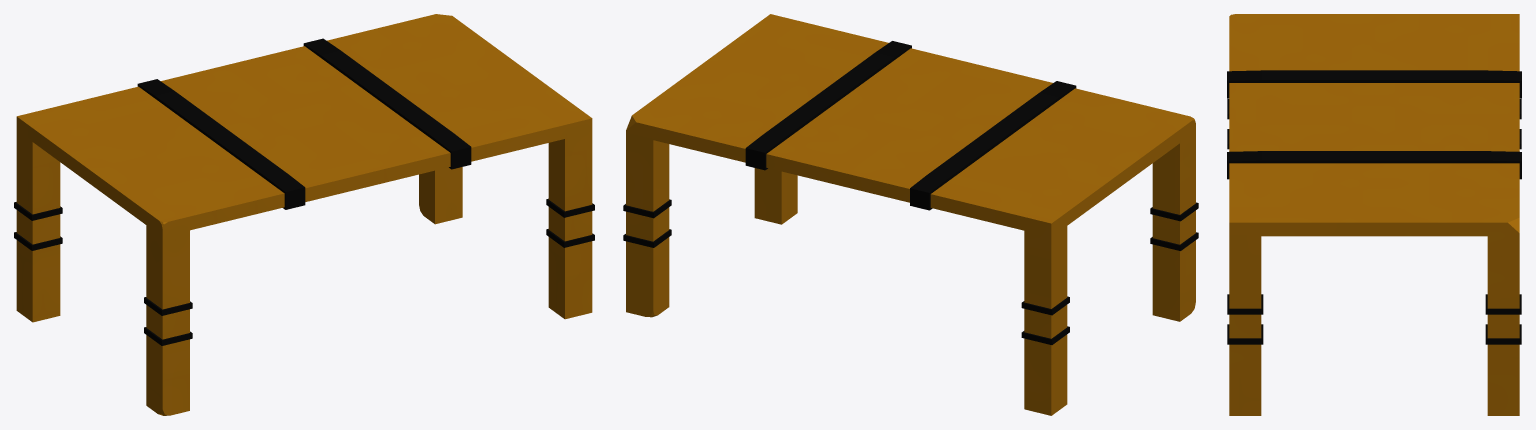
Rendered from Table_1.fbx.
The picture shows the model from 3 angles, left to right: view 1: azimuth 30°, elevation 25°; view 2: azimuth 150°, elevation 25°; view 3: azimuth 270°, elevation 25°; orthographic projection.
Visible parts, largest first — view 1: Table 1; view 2: Table 1; view 3: Table 1.
Part boxes in pixels (x1,y1,x2,y2): Table 1: [14, 14, 594, 415]; Table 1: [623, 14, 1198, 415]; Table 1: [1227, 14, 1521, 415].
Size of the model in its own units: 202 by 87.64 by 119.
